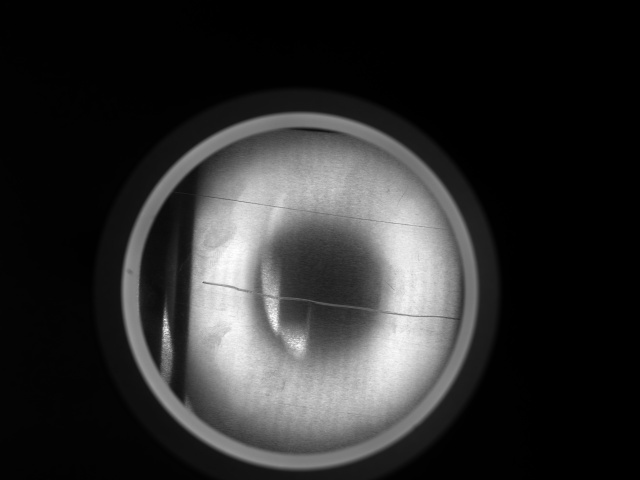ca_shang: (180, 189, 451, 230), (207, 280, 462, 322)
